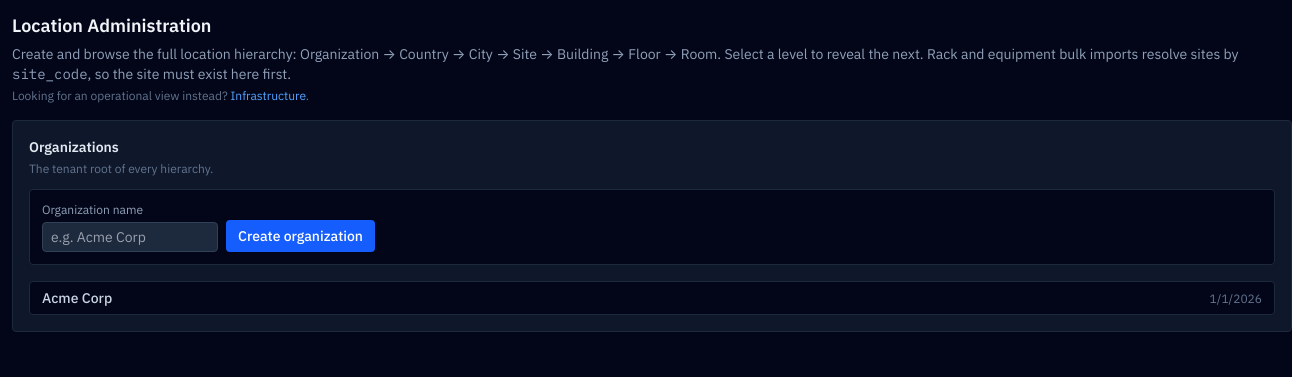
Scenario: LocationsPage › reports a duplicate (409) with actionable wording
In the field labelled "Organization name": [130, 237] box [42,222,218,252], type "Acme Corp"
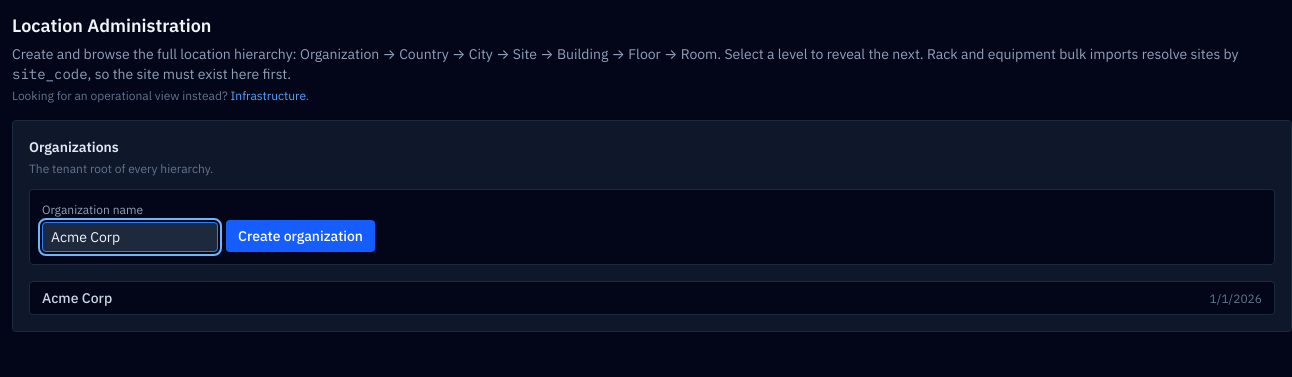
Click the button "Create organization": [300, 236] box [226,220,375,252]
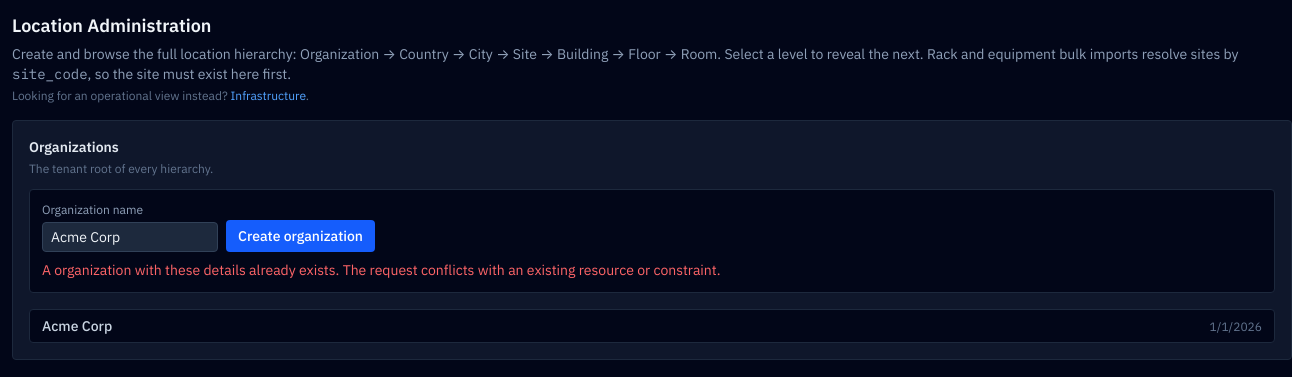
Result: the message shows "already exists" at [42,261,720,279]
